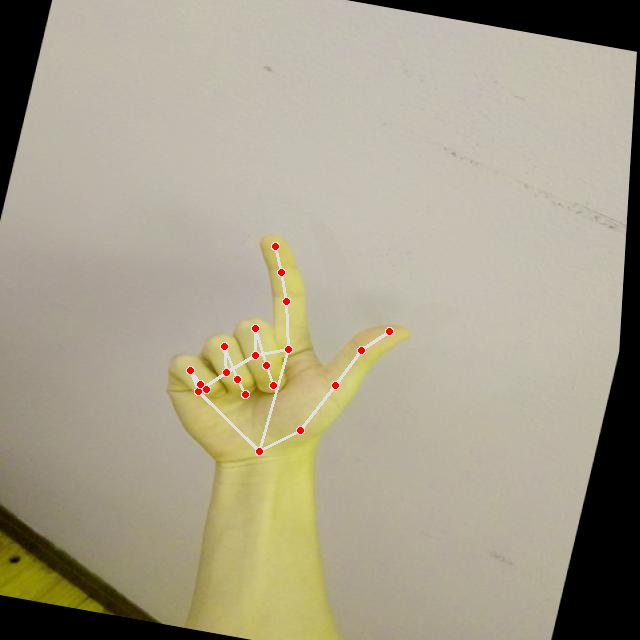L: (144, 214, 444, 498)
